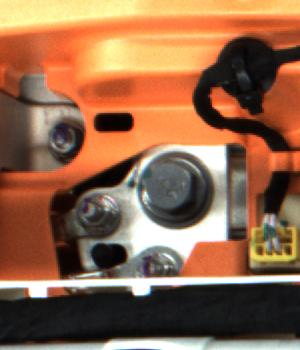nut_b: (131, 145, 215, 224)
screw_s: (76, 191, 121, 234), (43, 117, 77, 158), (137, 251, 179, 277)
